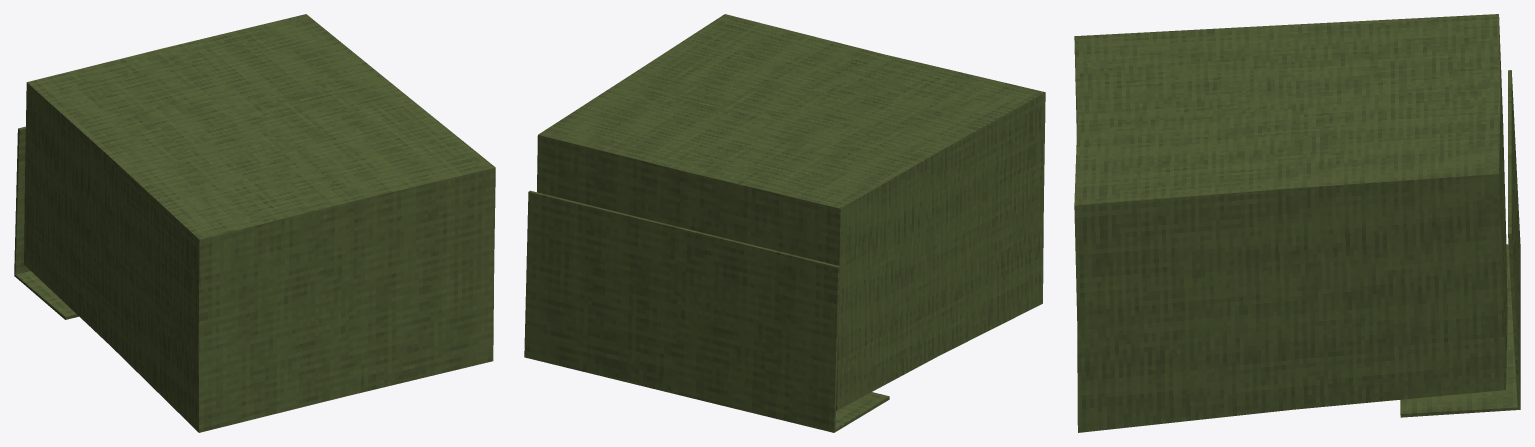
Rendered from pack_ruck_light.glb.
3 views of the same model, side by side, from view 1: azimuth 30°, elevation 25°; view 2: azimuth 150°, elevation 25°; view 3: azimuth 270°, elevation 25° (orthographic). The views are drawn at different scales.
Parts seen in each view (by area): view 1: pack_worn_ruck_light; view 2: pack_worn_ruck_light; view 3: pack_worn_ruck_light.
Boxes of the visible parts, left/top/right/bottom form: pack_worn_ruck_light: left=14, top=14, right=495, bottom=432; pack_worn_ruck_light: left=524, top=14, right=1045, bottom=432; pack_worn_ruck_light: left=1074, top=14, right=1520, bottom=432.
Bounding box in the file's own units: 0.3263 × 0.2293 × 0.3631.
1 material, 1 textured.
